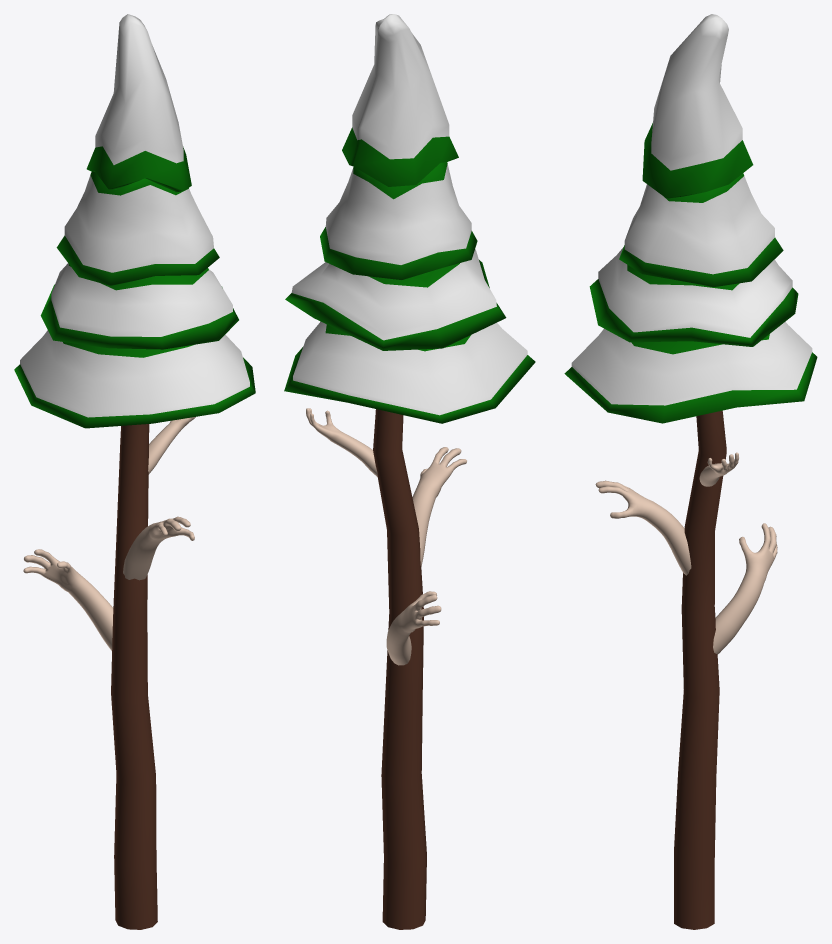
File: SW_TreeB2.fbx
3 renders of one model, left to right at view 1: azimuth 30°, elevation 25°; view 2: azimuth 150°, elevation 25°; view 3: azimuth 270°, elevation 25°, orthographic.
Visible parts, largest first — view 1: leaves6, trunk5, alienhand, alienhand2, alienhand1; view 2: leaves6, trunk5, alienhand2, alienhand, alienhand1; view 3: leaves6, trunk5, alienhand, alienhand2, alienhand1.
Boxes of the visible parts, <box> form: leaves6: <box>14,14,255,428</box>; trunk5: <box>111,424,157,929</box>; alienhand: <box>23,549,113,650</box>; alienhand2: <box>123,516,194,580</box>; alienhand1: <box>148,417,195,474</box>; leaves6: <box>284,14,535,423</box>; trunk5: <box>373,409,426,929</box>; alienhand2: <box>412,447,466,566</box>; alienhand: <box>386,591,441,665</box>; alienhand1: <box>306,408,377,476</box>; leaves6: <box>564,14,817,423</box>; trunk5: <box>674,410,726,929</box>; alienhand: <box>713,523,777,654</box>; alienhand2: <box>595,480,691,575</box>; alienhand1: <box>699,452,738,486</box>.
Bounding box in the file's own units: 582 × 2524 × 638.
